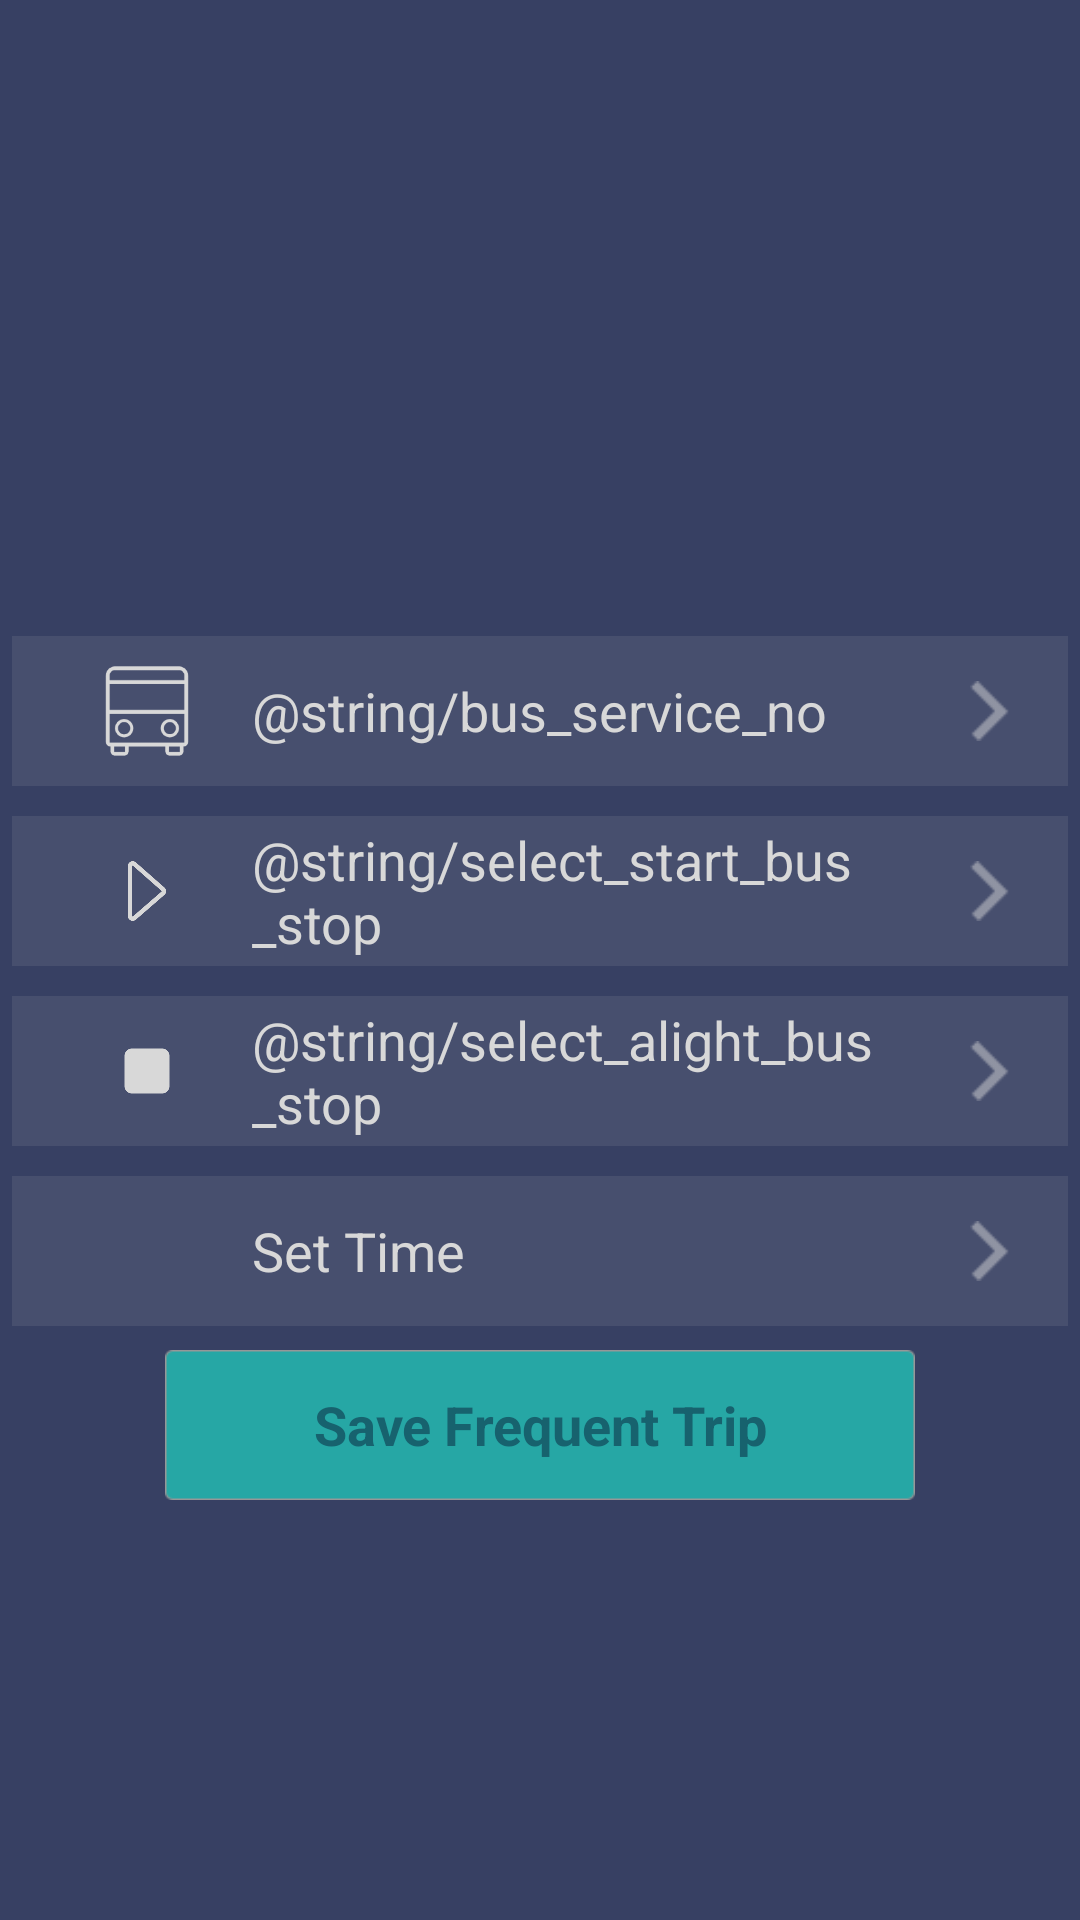

Point at icon controls on the screen. Image size 1080 x 1920, points as (x=x, y=y).
arrow right: (x=989, y=711), (x=989, y=891), (x=989, y=1071), (x=989, y=1251)
end: (x=147, y=1071)
start empty: (x=147, y=891)
